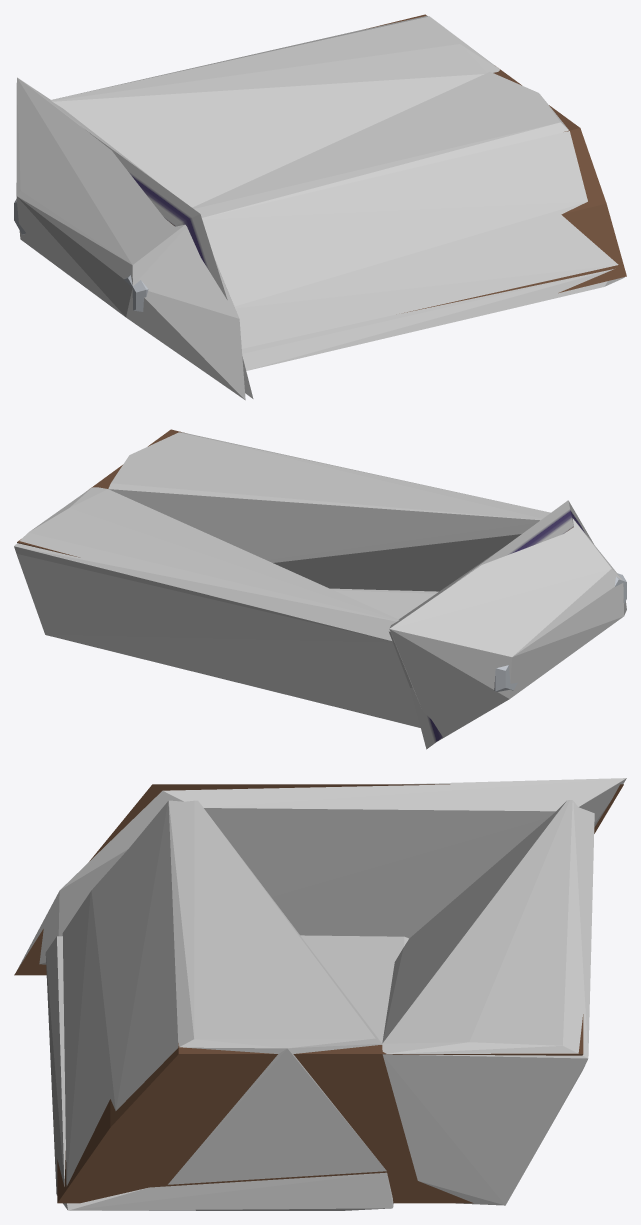
Rendered from SM_Prop_Desk_01_Drawer_r_02.fbx.
3 renders of one model, top to bottom at view 1: azimuth 30°, elevation 25°; view 2: azimuth 150°, elevation 25°; view 3: azimuth 270°, elevation 25°, orthographic. The views are drawn at different scales.
Visible parts, largest first — view 1: SM_Prop_Desk_01_Drawer_r_02_ConvexHulls, SM_Prop_Desk_01_Drawer_r_02; view 2: SM_Prop_Desk_01_Drawer_r_02_ConvexHulls, SM_Prop_Desk_01_Drawer_r_02; view 3: SM_Prop_Desk_01_Drawer_r_02_ConvexHulls, SM_Prop_Desk_01_Drawer_r_02.
Part boxes in pixels (x1=…): SM_Prop_Desk_01_Drawer_r_02_ConvexHulls: x1=16, y1=16, x2=624, y2=400; SM_Prop_Desk_01_Drawer_r_02: x1=14, y1=14, x2=626, y2=398; SM_Prop_Desk_01_Drawer_r_02_ConvexHulls: x1=14, y1=432, x2=626, y2=741; SM_Prop_Desk_01_Drawer_r_02: x1=17, y1=429, x2=626, y2=749; SM_Prop_Desk_01_Drawer_r_02_ConvexHulls: x1=17, y1=778, x2=626, y2=1210; SM_Prop_Desk_01_Drawer_r_02: x1=14, y1=784, x2=623, y2=1203.
Size of the model in its own units: 61.03 by 54.14 by 19.15.
2 materials, 1 textured.
